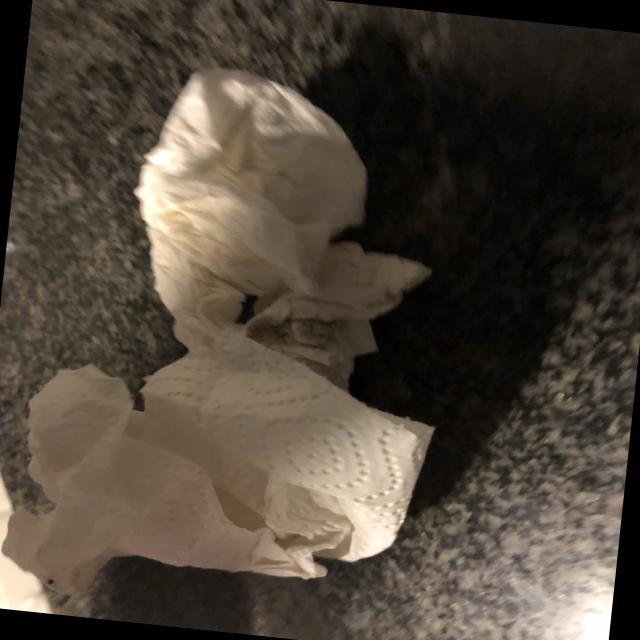organic waste: (0, 298, 455, 623), (112, 55, 454, 397)
